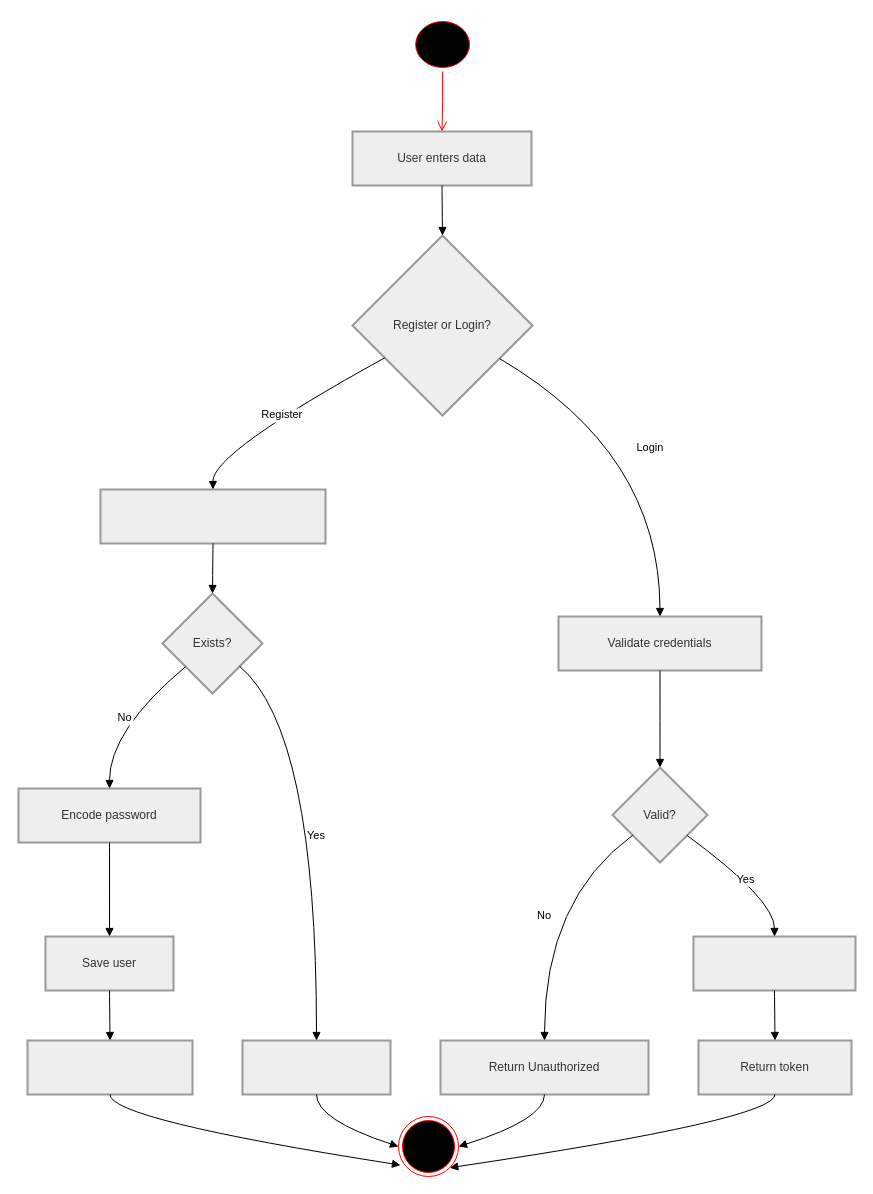
The diagram is 873 pixels wide and 1194 high, and some of its shapes have lost their labels. Here are the shapes that lost their labels. From the top down, the centre of each, then its label:
(x=212, y=516): Check username/email
(x=774, y=963): Generate JWT
(x=109, y=1067): Return success
(x=316, y=1067): Return error
